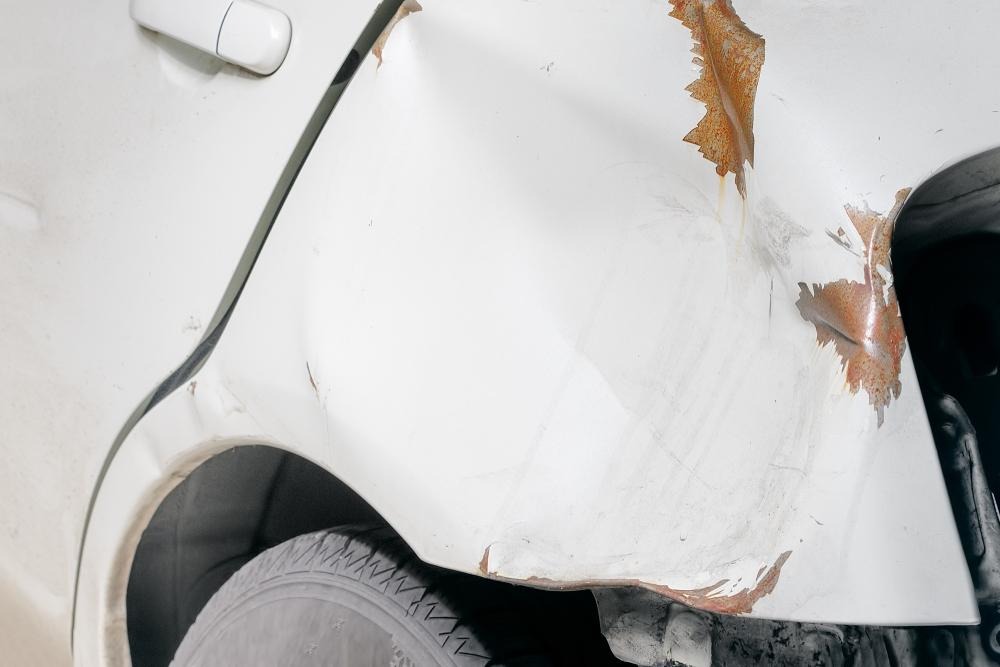dent: (306, 8, 865, 606)
